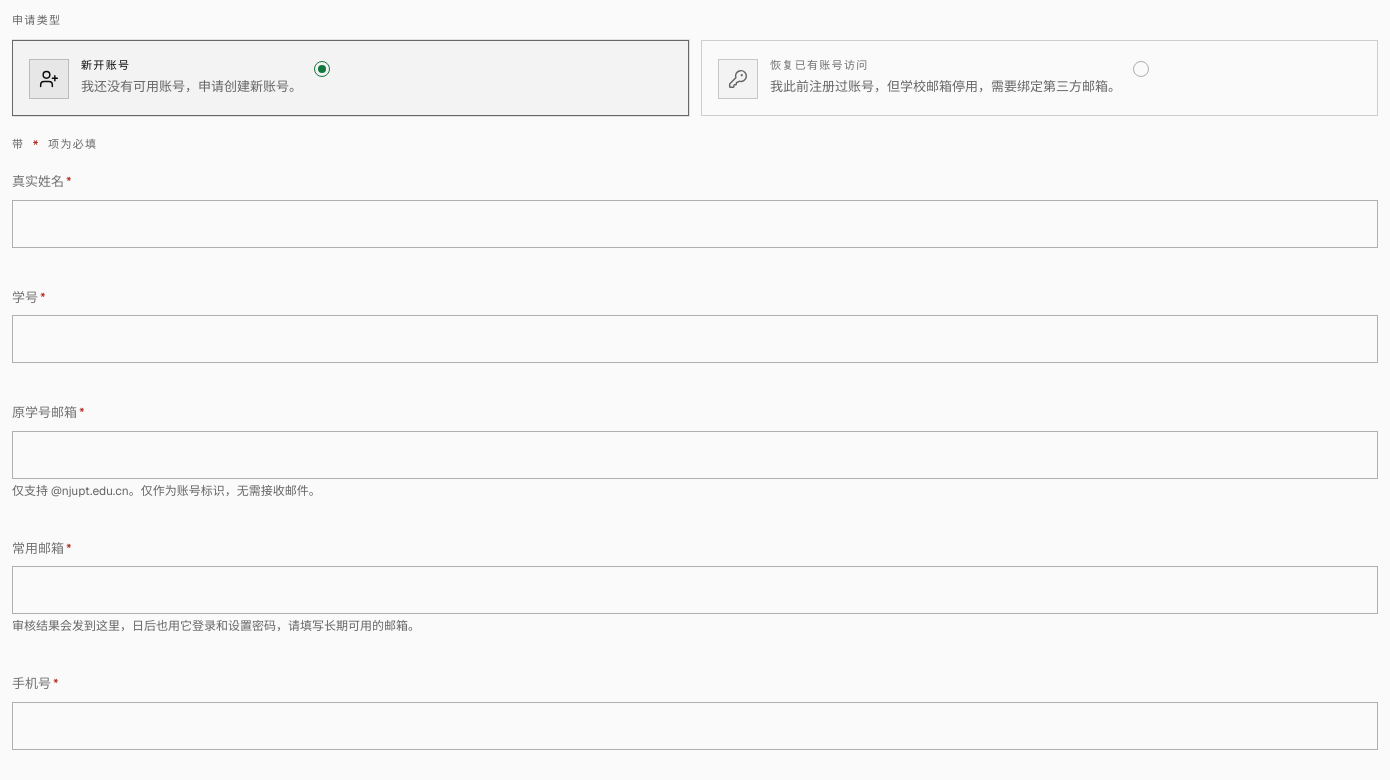
Test: AlumniRequestForm › autofills the school mailbox from a well-formed student id
Type "B18040101" into the field labelled "学号" at (695, 339), box [12,315,1378,363]
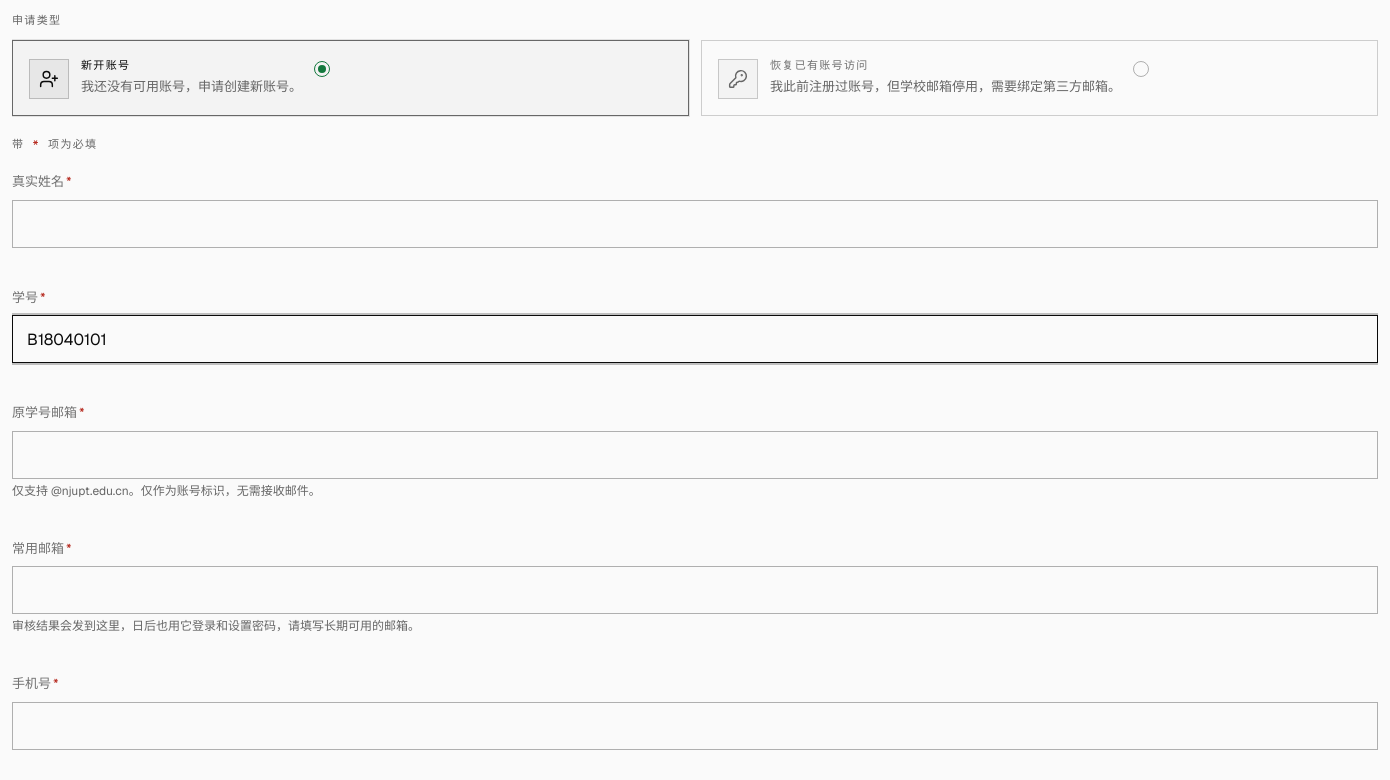
Press Tab
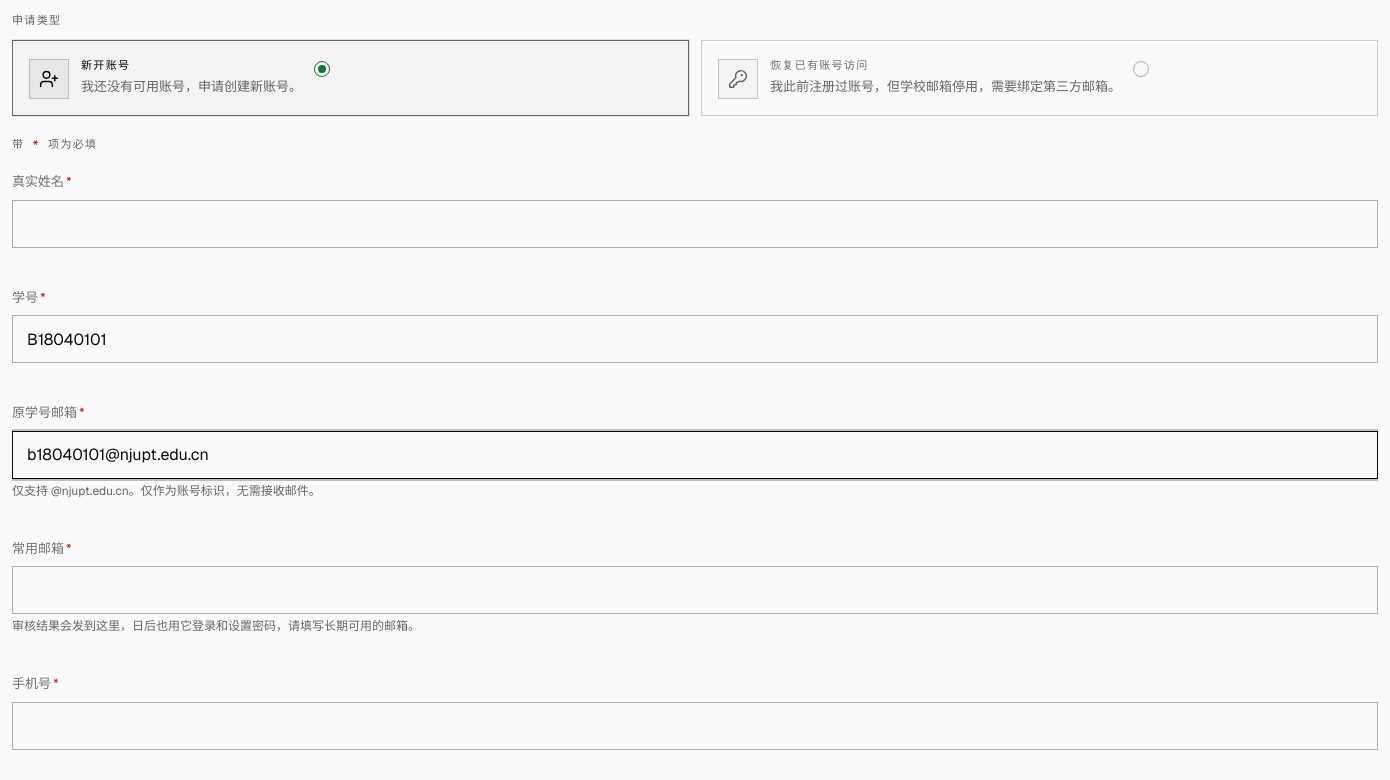
Result: the field labelled "原学号邮箱" holds "b18040101@njupt.edu.cn" at [12,430,1378,478]
